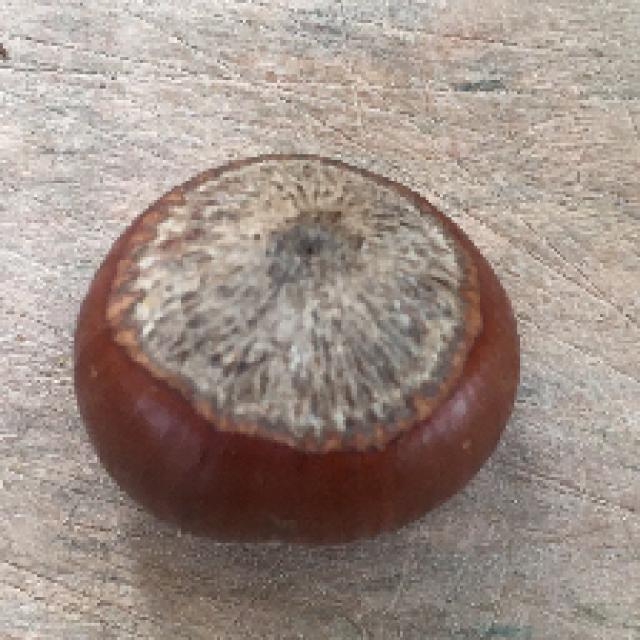DamagedHazelnut: (72, 151, 523, 546)
